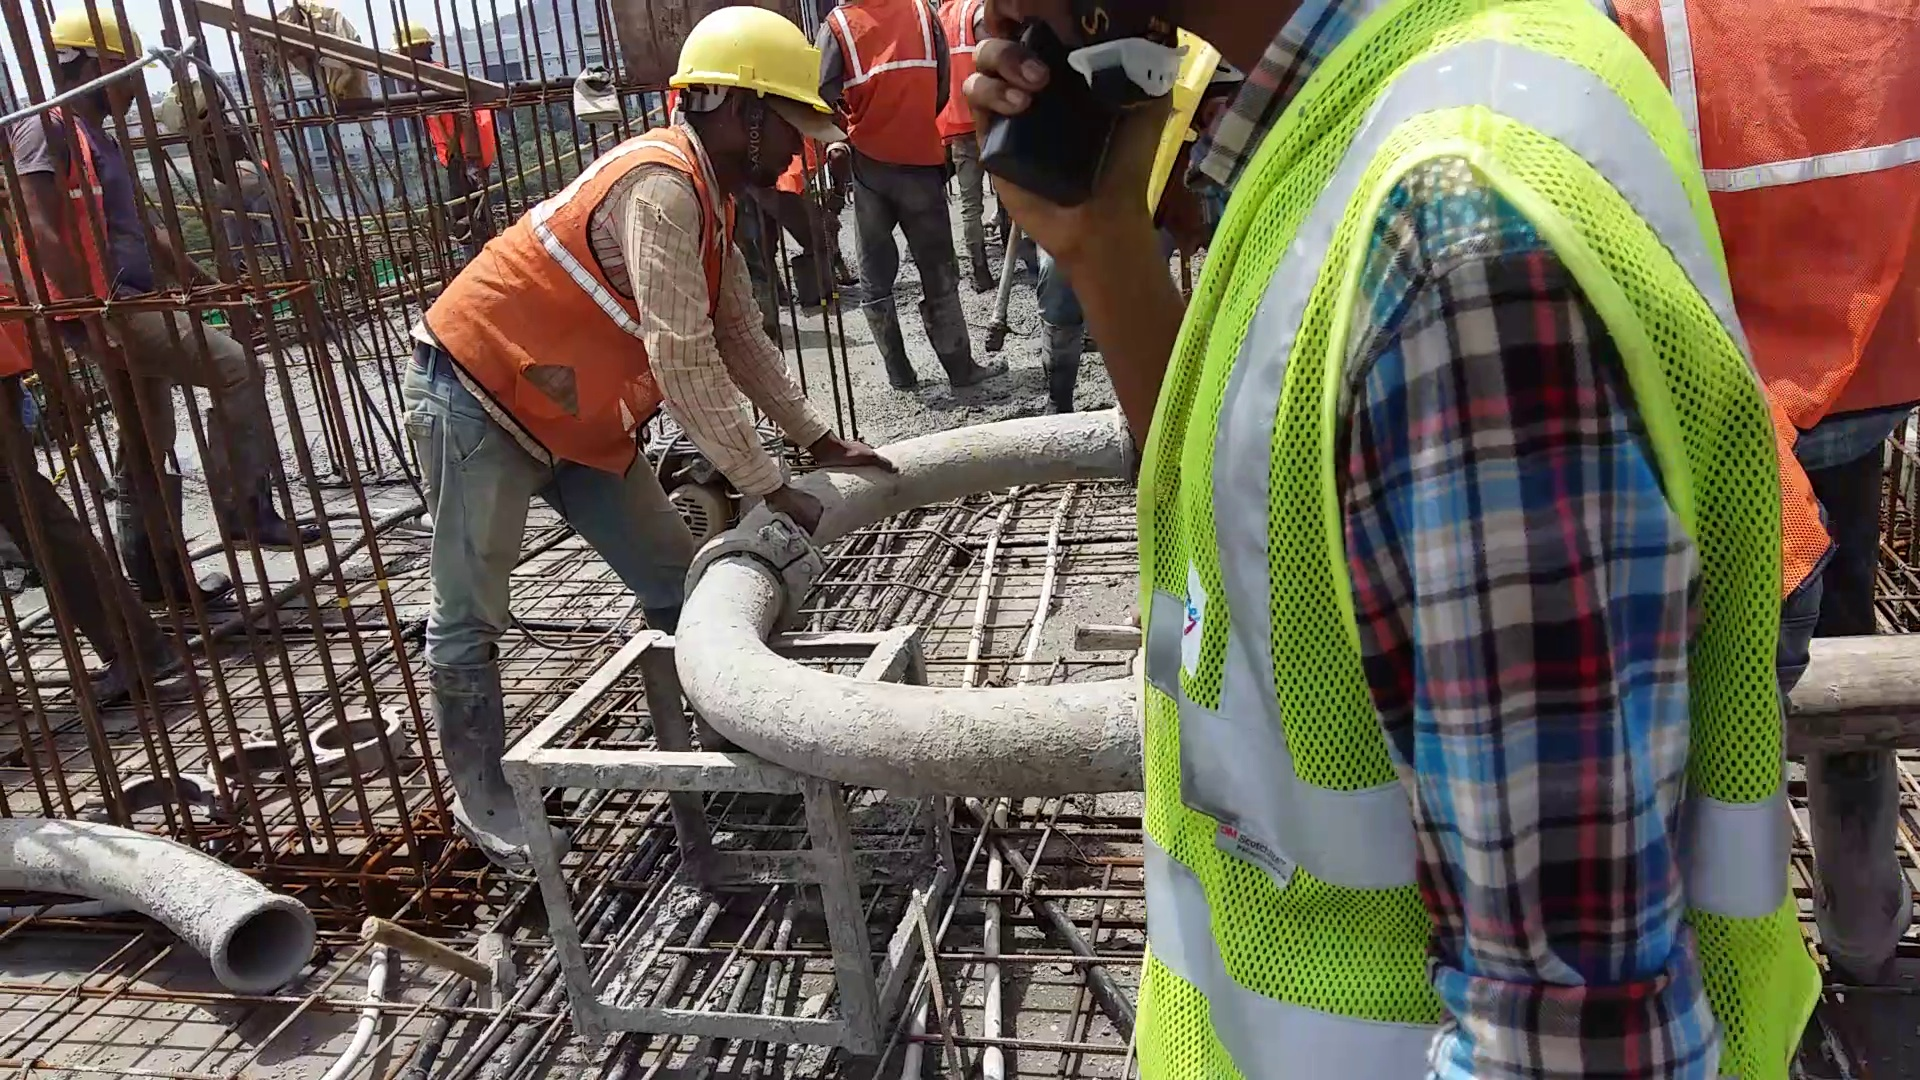SAFE: (413, 1, 847, 463)
